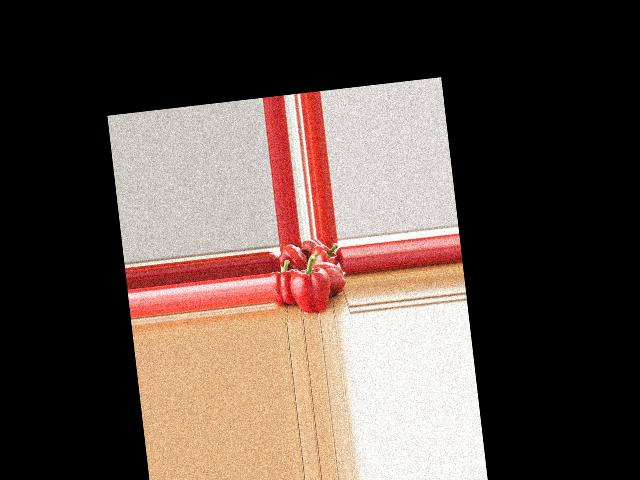bell_pepper: (309, 241, 341, 269)
